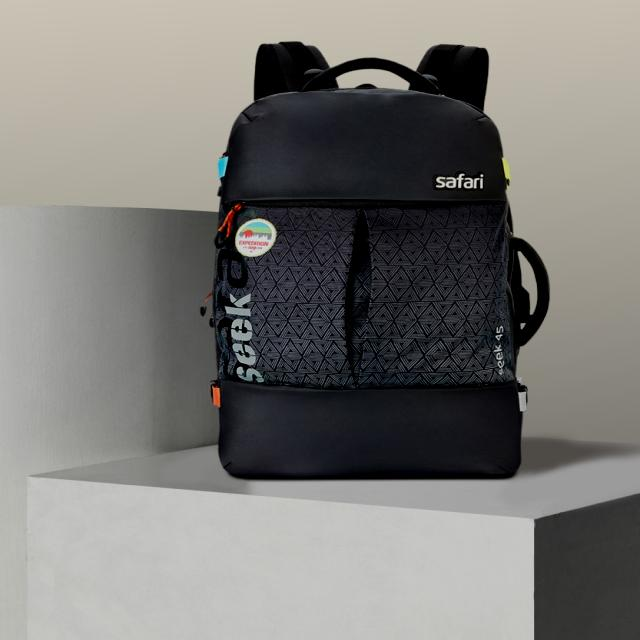backpack: (210, 41, 550, 480)
